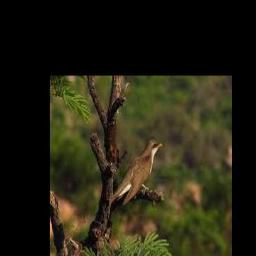Cuckoo: (110, 138, 163, 206)
